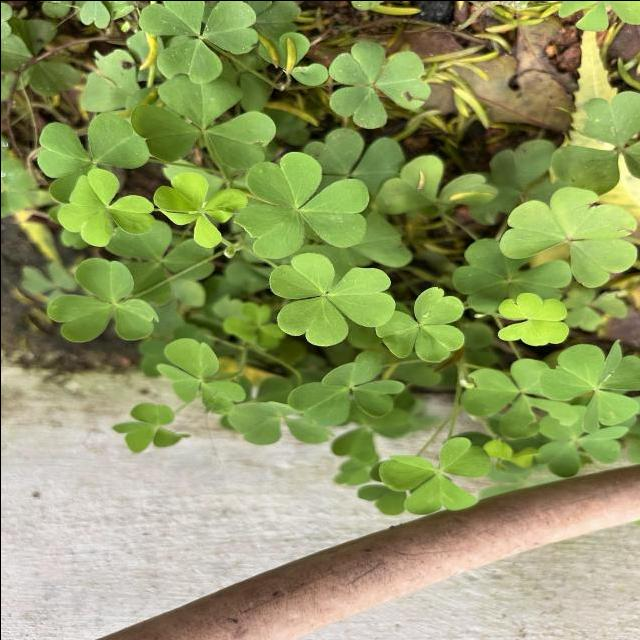Oxalis corniculata: (231, 150, 370, 258), (497, 185, 638, 288), (128, 72, 276, 170), (267, 251, 395, 346), (137, 0, 260, 85), (537, 337, 640, 434), (44, 256, 160, 342), (327, 40, 431, 129), (286, 348, 404, 426), (376, 436, 491, 514), (54, 167, 156, 247), (152, 171, 248, 248), (155, 336, 246, 415), (374, 286, 465, 362), (110, 400, 190, 453), (496, 291, 569, 346)
